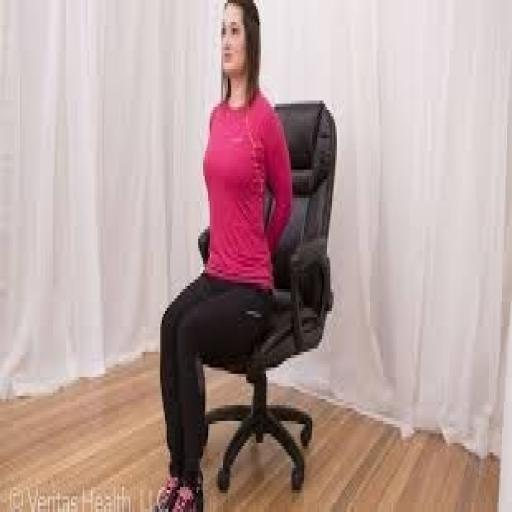sitting: (149, 0, 294, 509)
